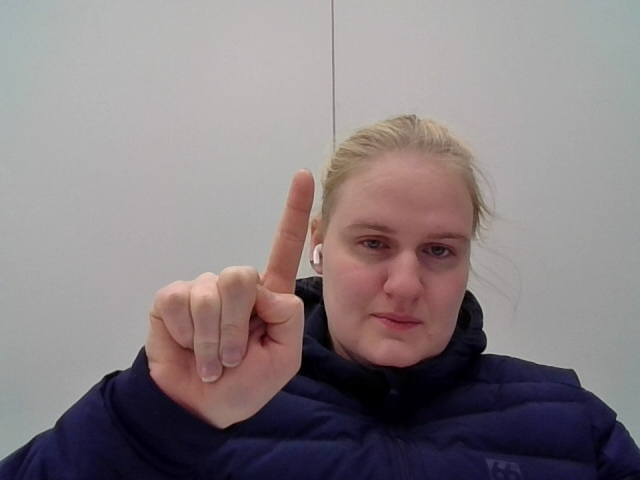up: (126, 148, 315, 440), (131, 159, 300, 423)
